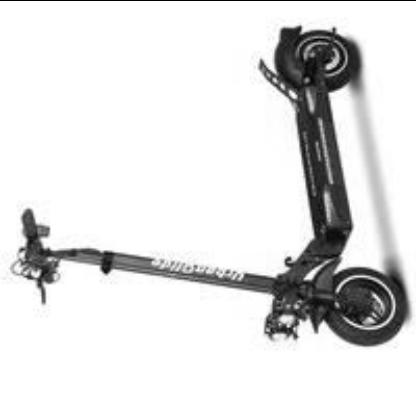bike: (3, 22, 412, 355), (255, 24, 413, 346)
